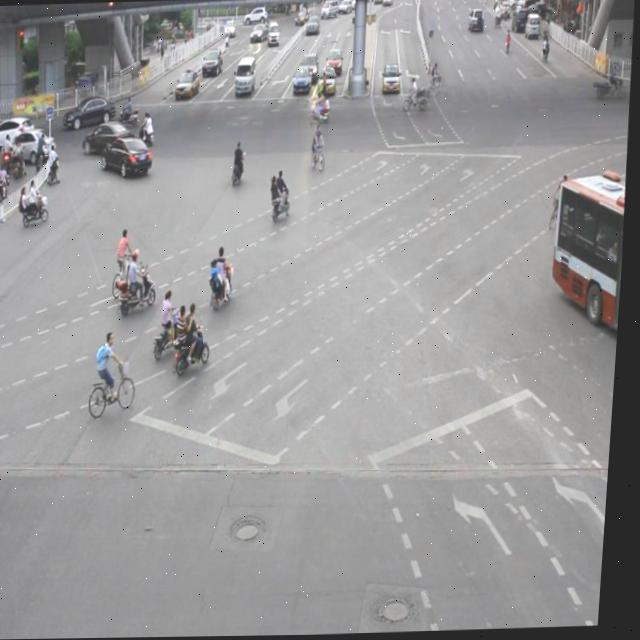car: (102, 132, 156, 178), (62, 94, 118, 130), (84, 121, 137, 153)
van: (548, 178, 630, 351)
